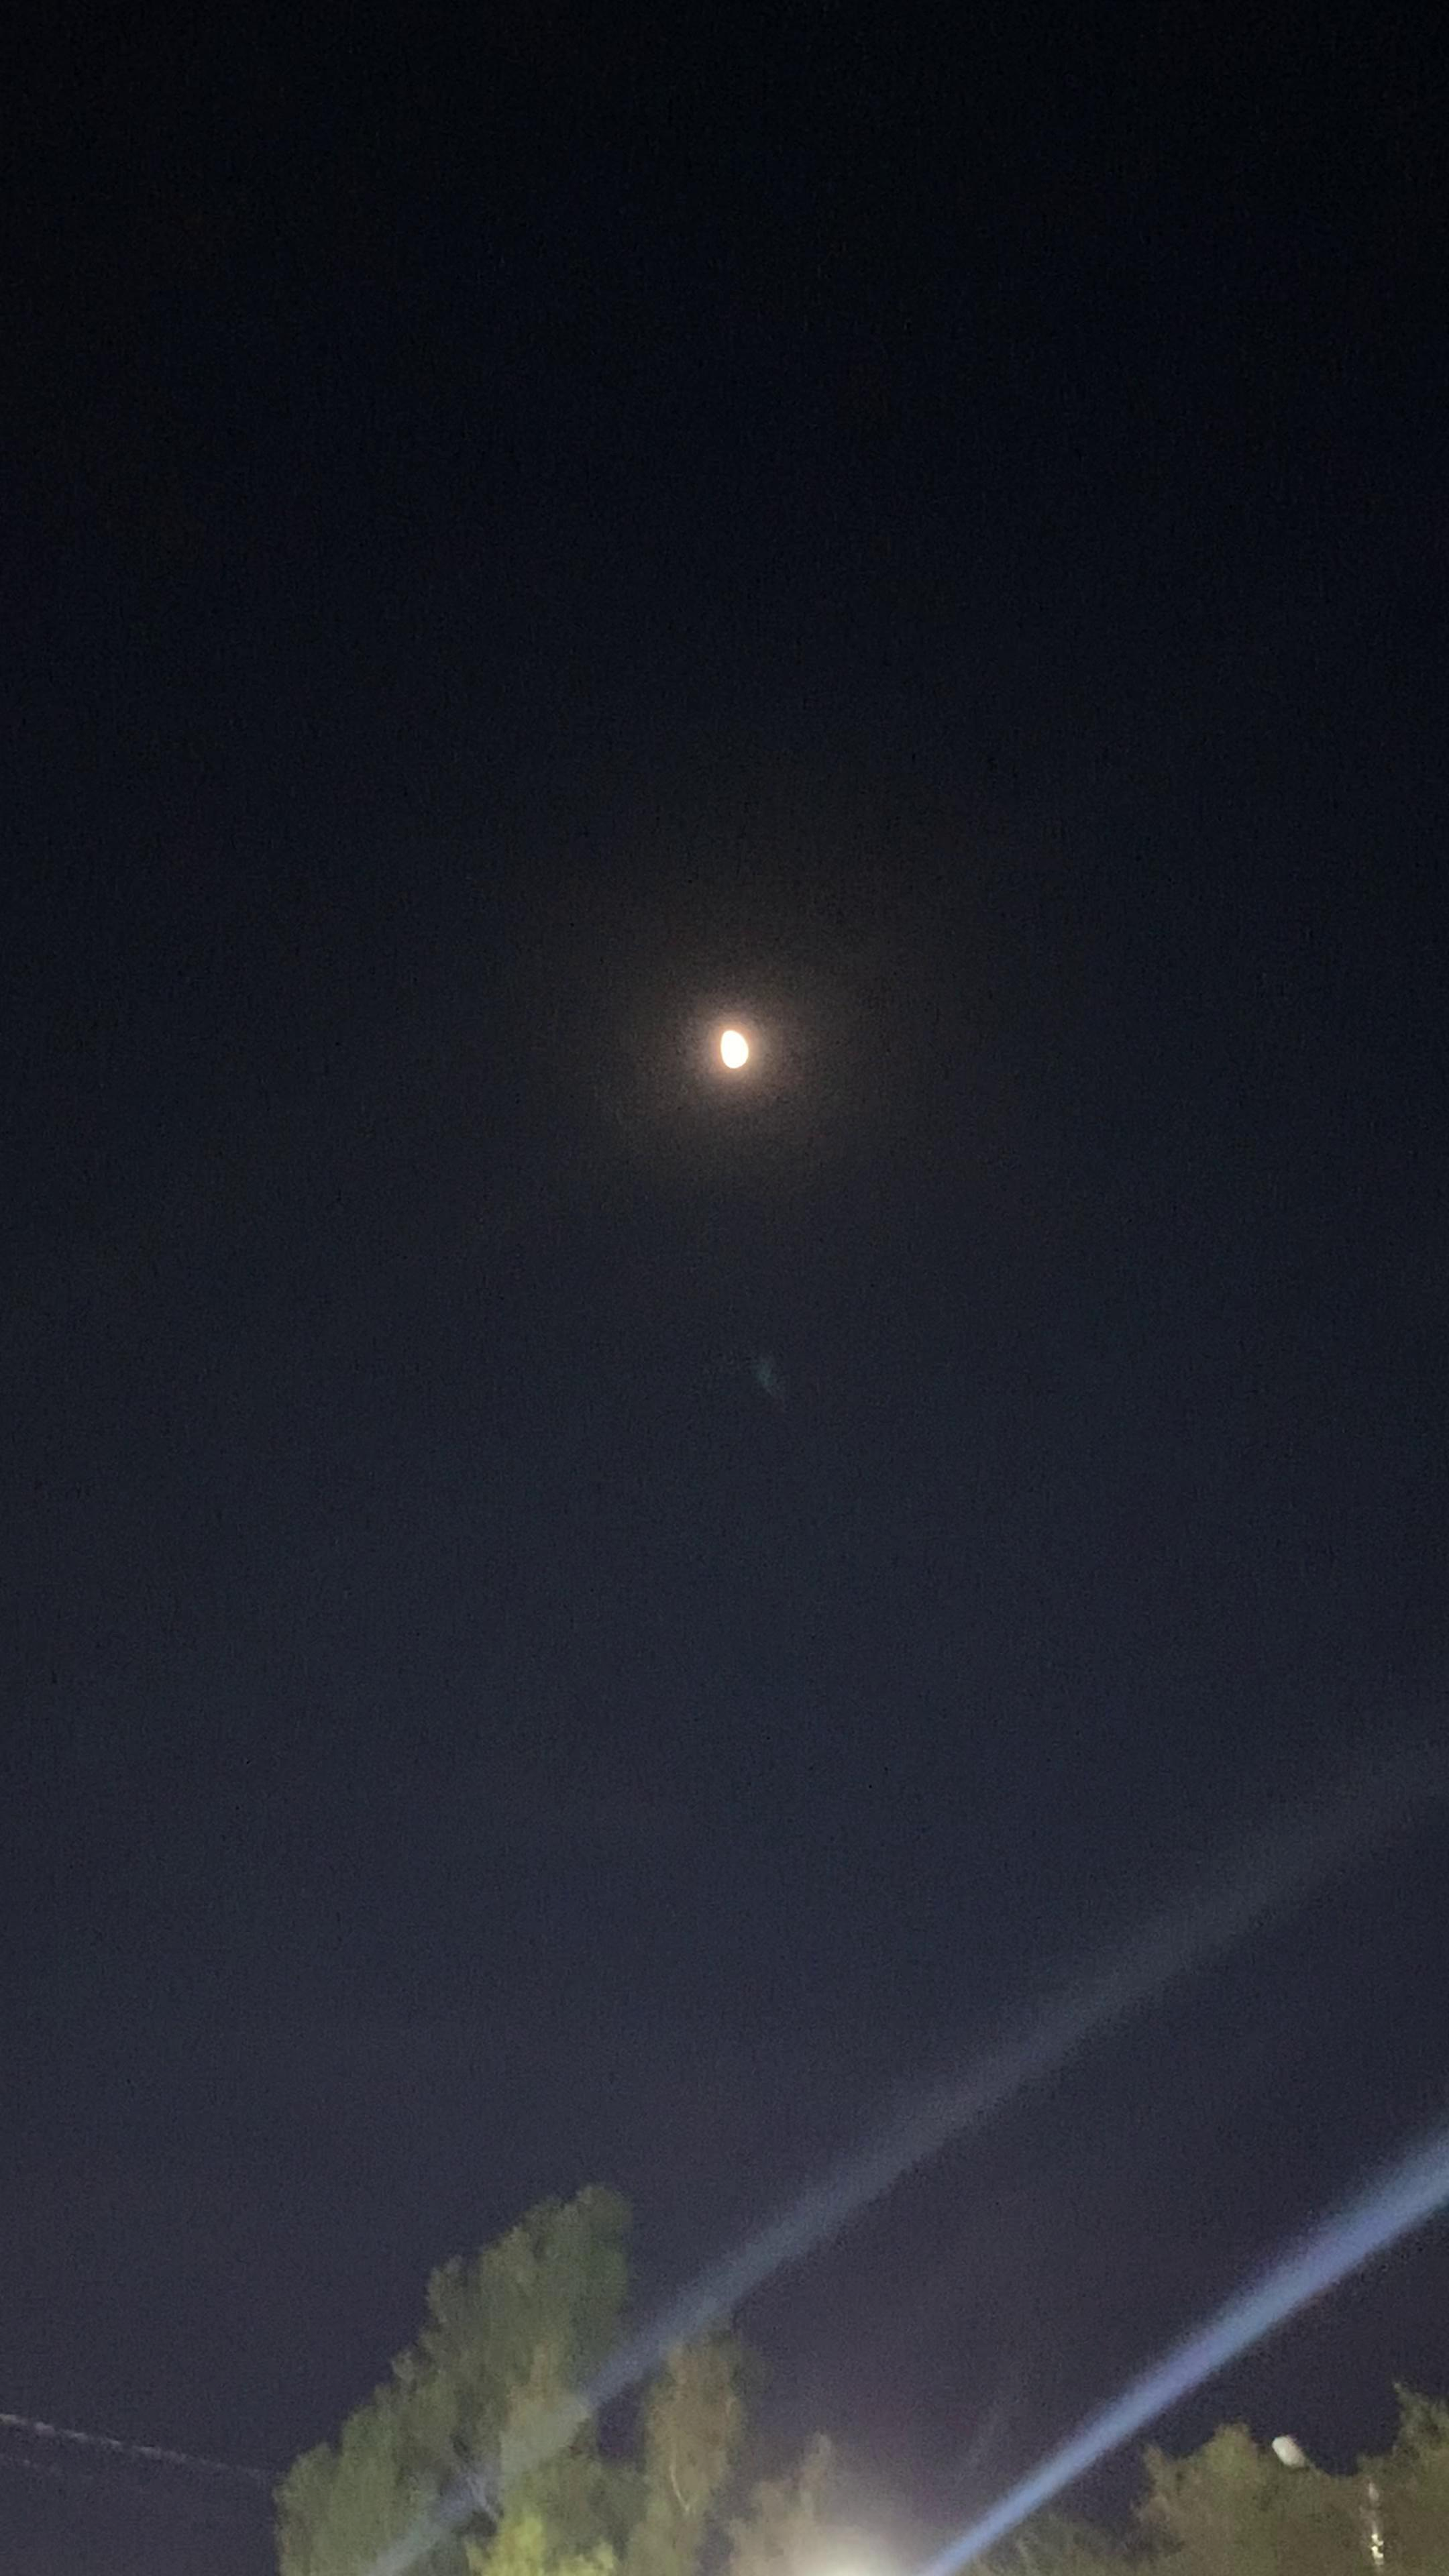moon: (692, 975, 791, 1093)
